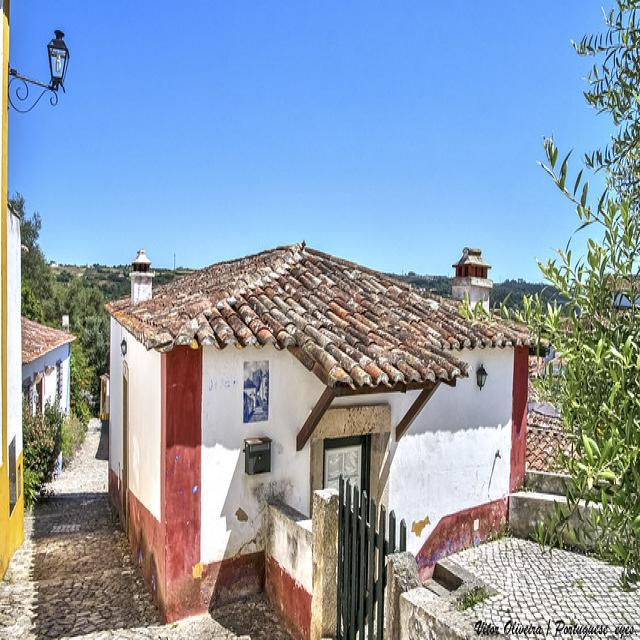Normal_building: (101, 240, 550, 640)
